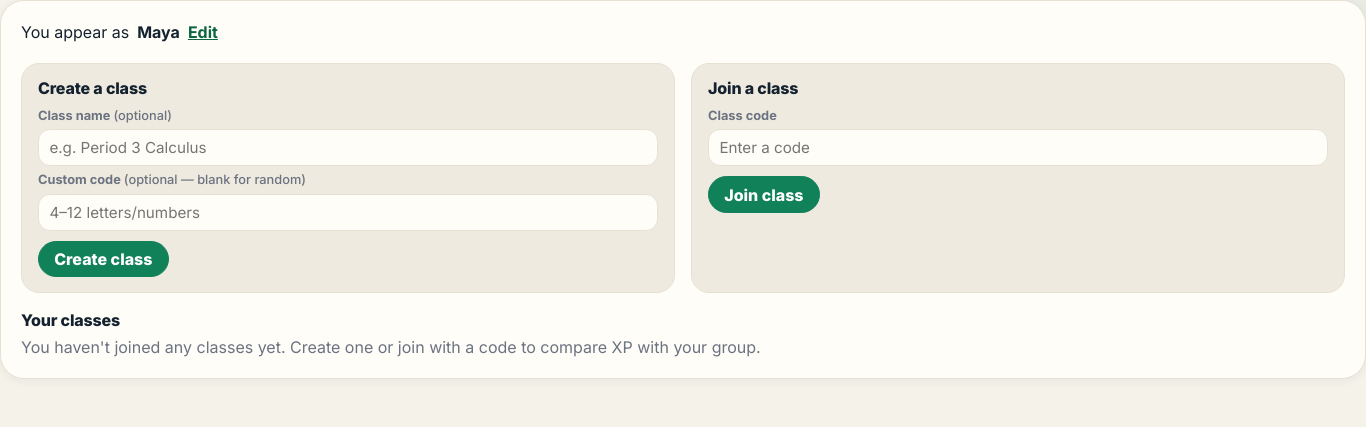
Scenario: ClassesPanel create › creates a class with a custom code and selects its new tab
The image size is (1366, 427).
Type "Period 3" into the field labelled "Class name (optional)" at [348, 147], box [38,129,658,166]
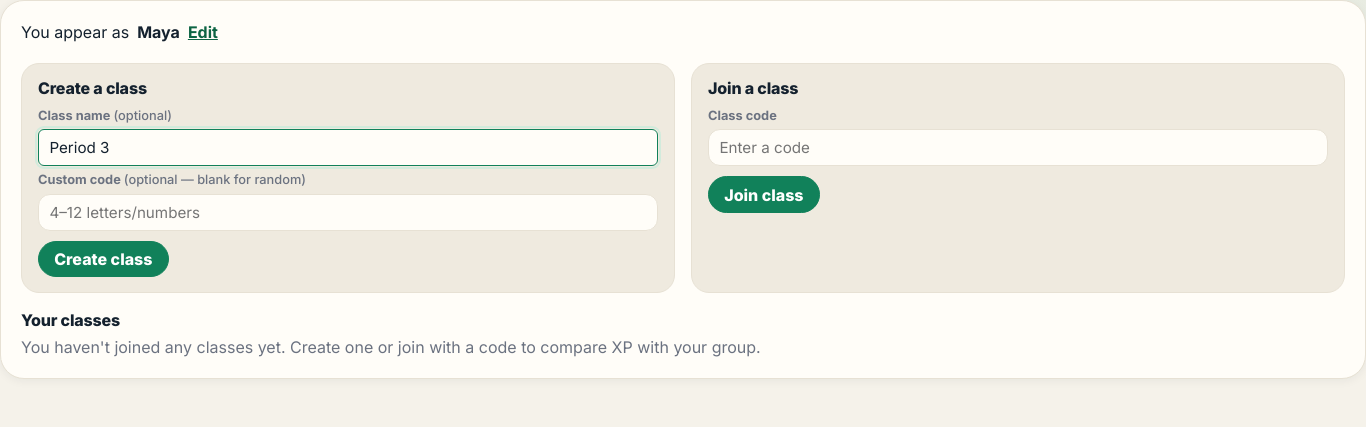
Type "CALC26" into the field labelled "Custom code (optional — blank for random)" at [348, 212], box [38,194,658,231]
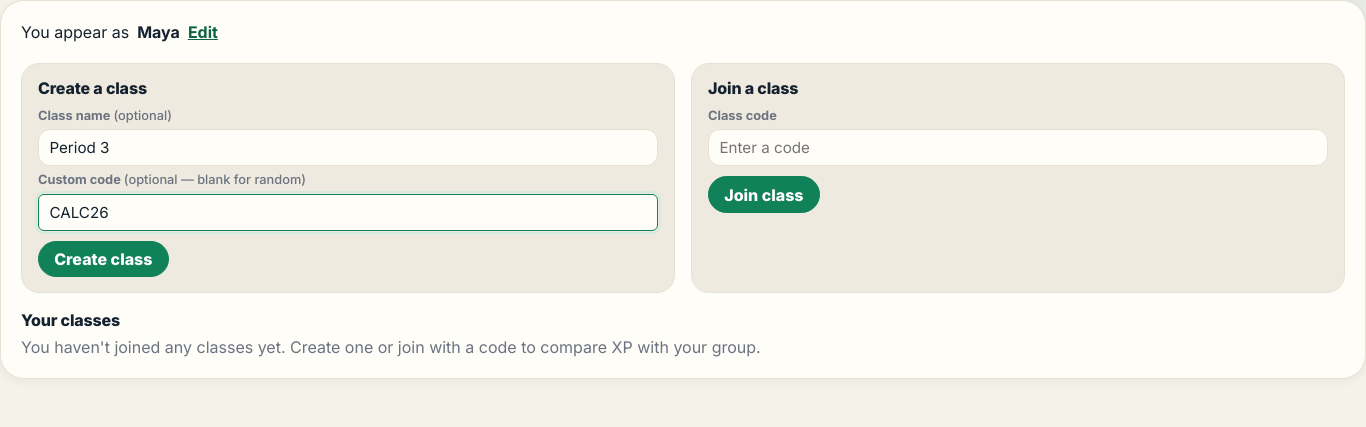
Click the button "Create class" at [103, 259], box [38,241,169,278]
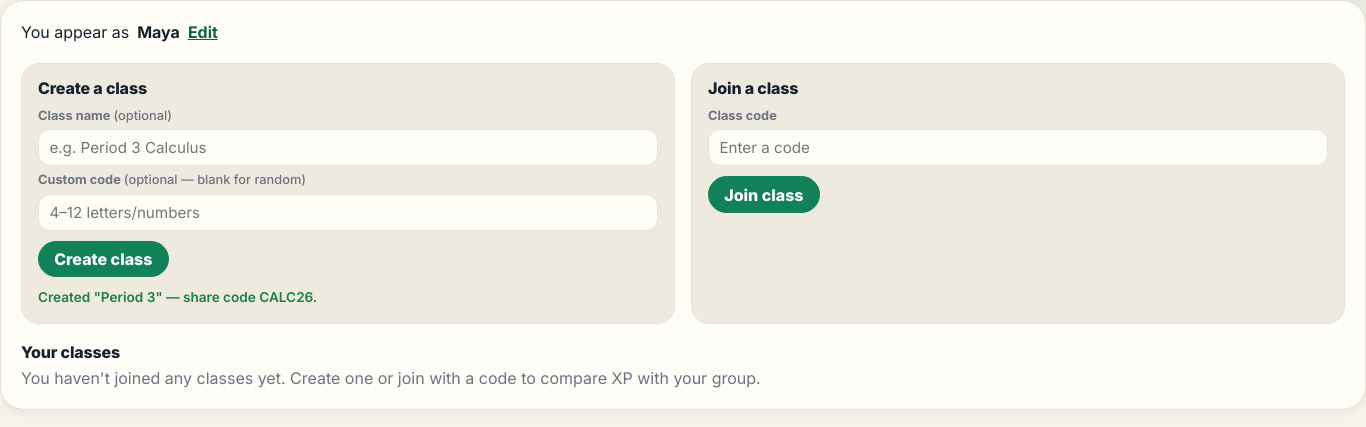
Expected: the text "Created \"Period 3\" — share code CALC26." is shown, [38,289,317,305]
